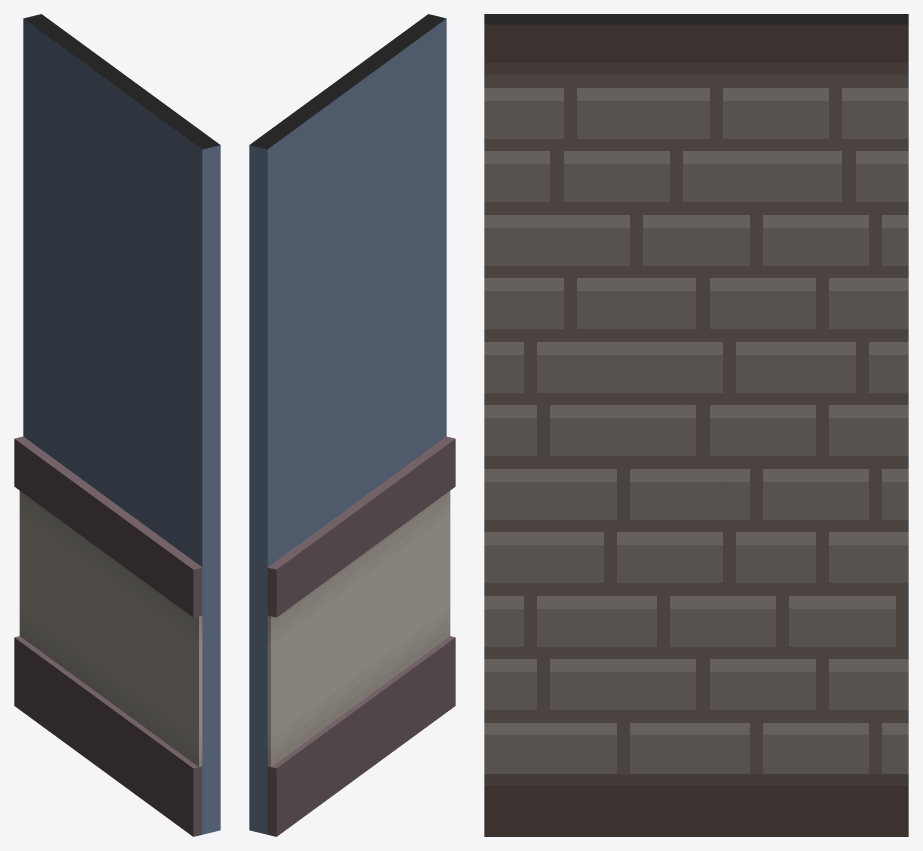
The model's file is mesh_wall_straight.glb.
3 renders of one model, left to right at view 1: azimuth 30°, elevation 25°; view 2: azimuth 150°, elevation 25°; view 3: azimuth 270°, elevation 25°, orthographic. The views are drawn at different scales.
Visible parts, largest first — view 1: mesh_wall_straight_mat_wall_inside_1_0; view 2: mesh_wall_straight_mat_wall_inside_1_0; view 3: mesh_wall_straight_mat_wall_side_b_0, mesh_wall_straight_mat_wall_inside_1_0.
Boxes of the visible parts, x1=… form: mesh_wall_straight_mat_wall_inside_1_0: x1=14, y1=14, x2=220, y2=836; mesh_wall_straight_mat_wall_inside_1_0: x1=249, y1=14, x2=455, y2=836; mesh_wall_straight_mat_wall_side_b_0: x1=484, y1=24, x2=908, y2=836; mesh_wall_straight_mat_wall_inside_1_0: x1=484, y1=14, x2=908, y2=24.
Size of the model in its own units: 0.1441 by 3.46 by 1.64.
2 materials, 2 textured.
